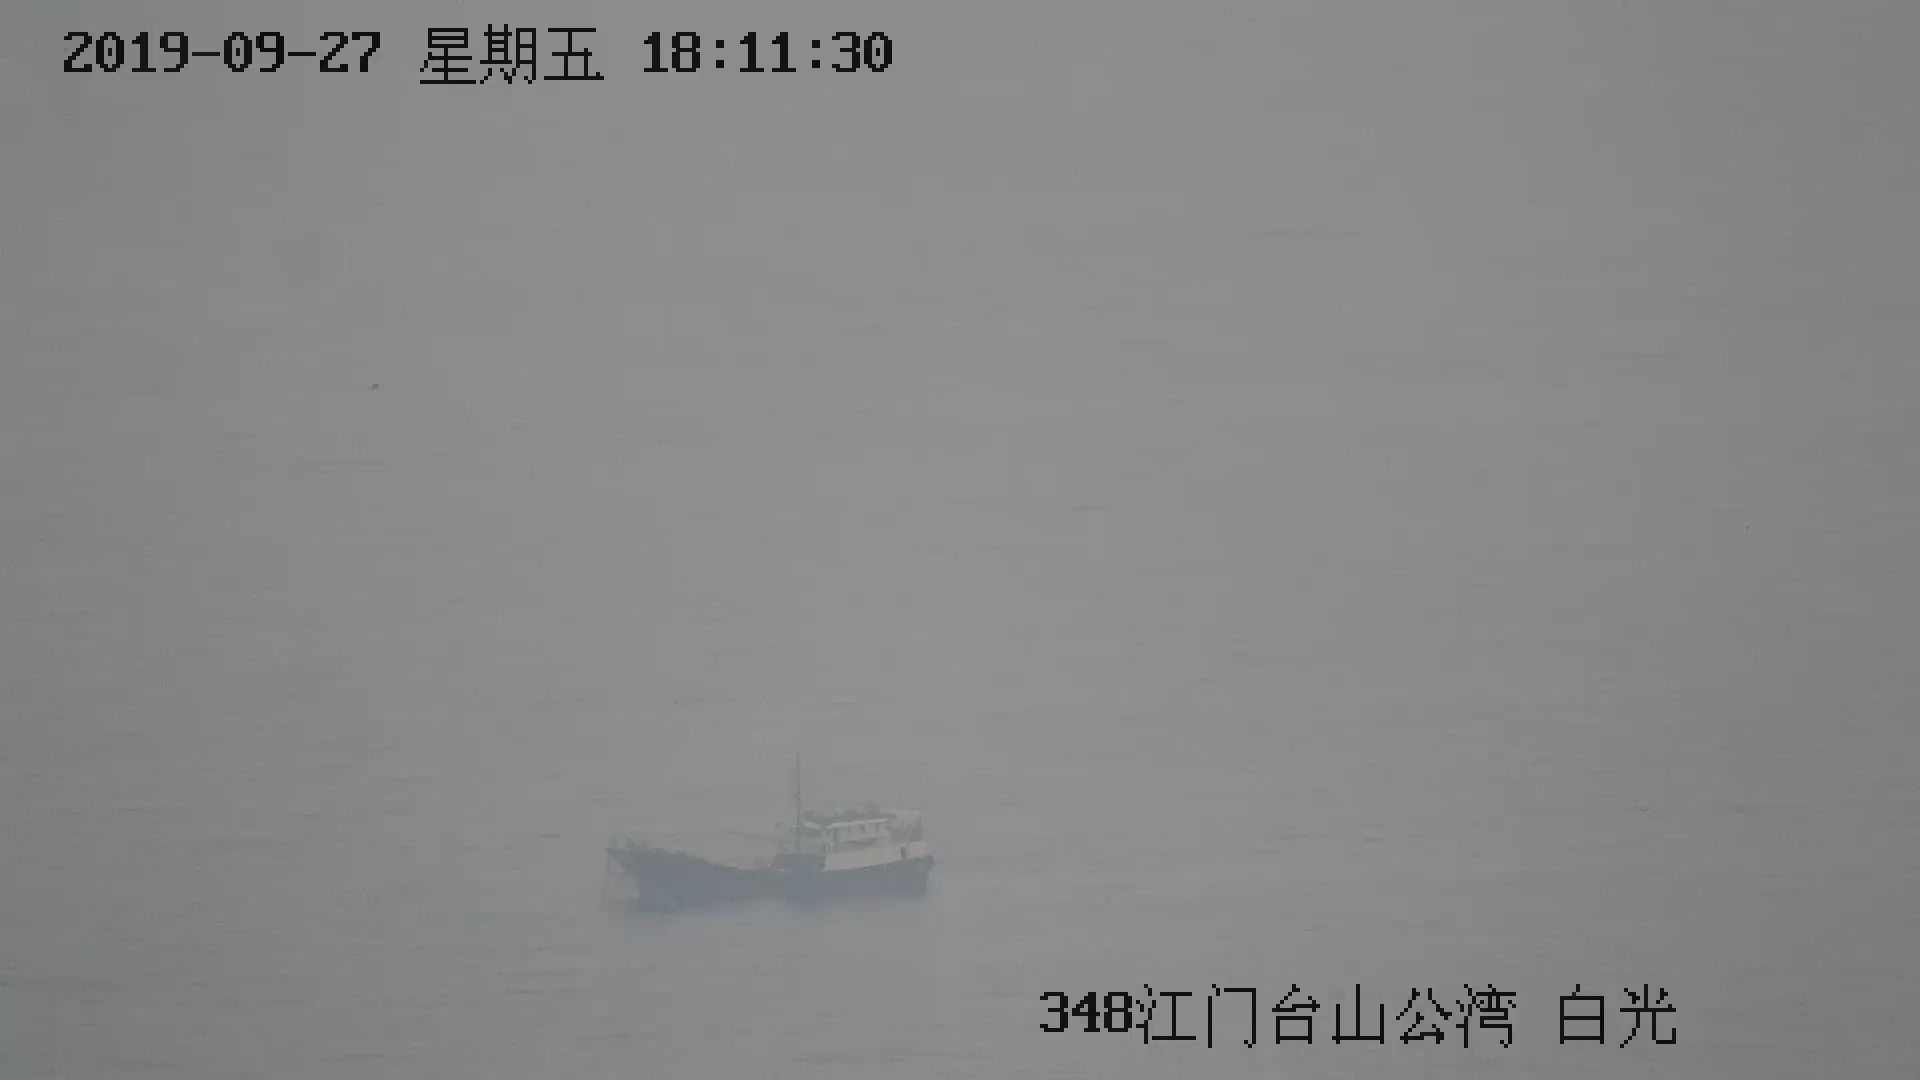ship: (601, 764, 934, 913)
